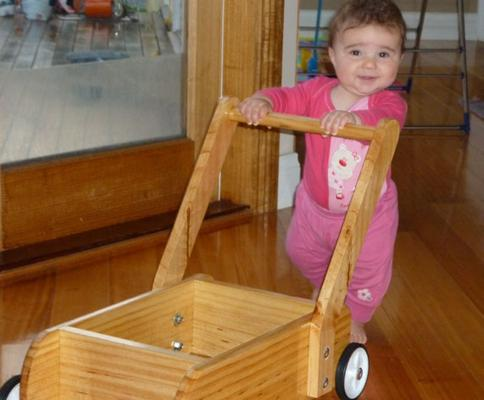person: (231, 1, 408, 346)
